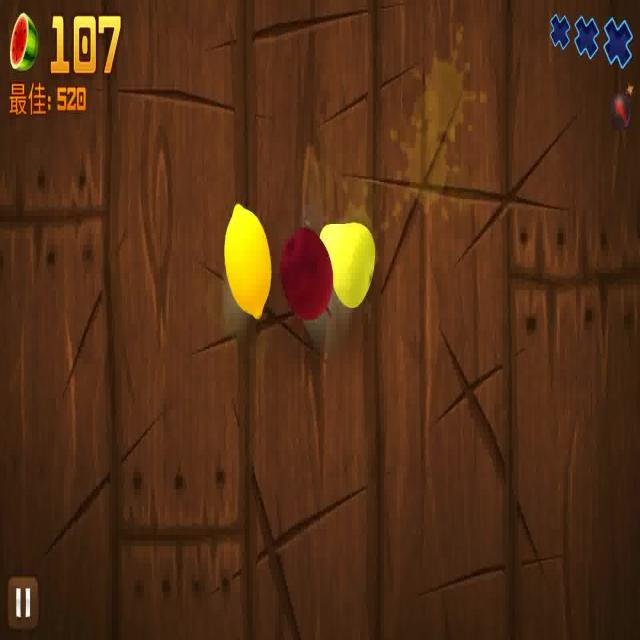fruit: (223, 200, 270, 325), (281, 226, 335, 326), (322, 220, 378, 310)
